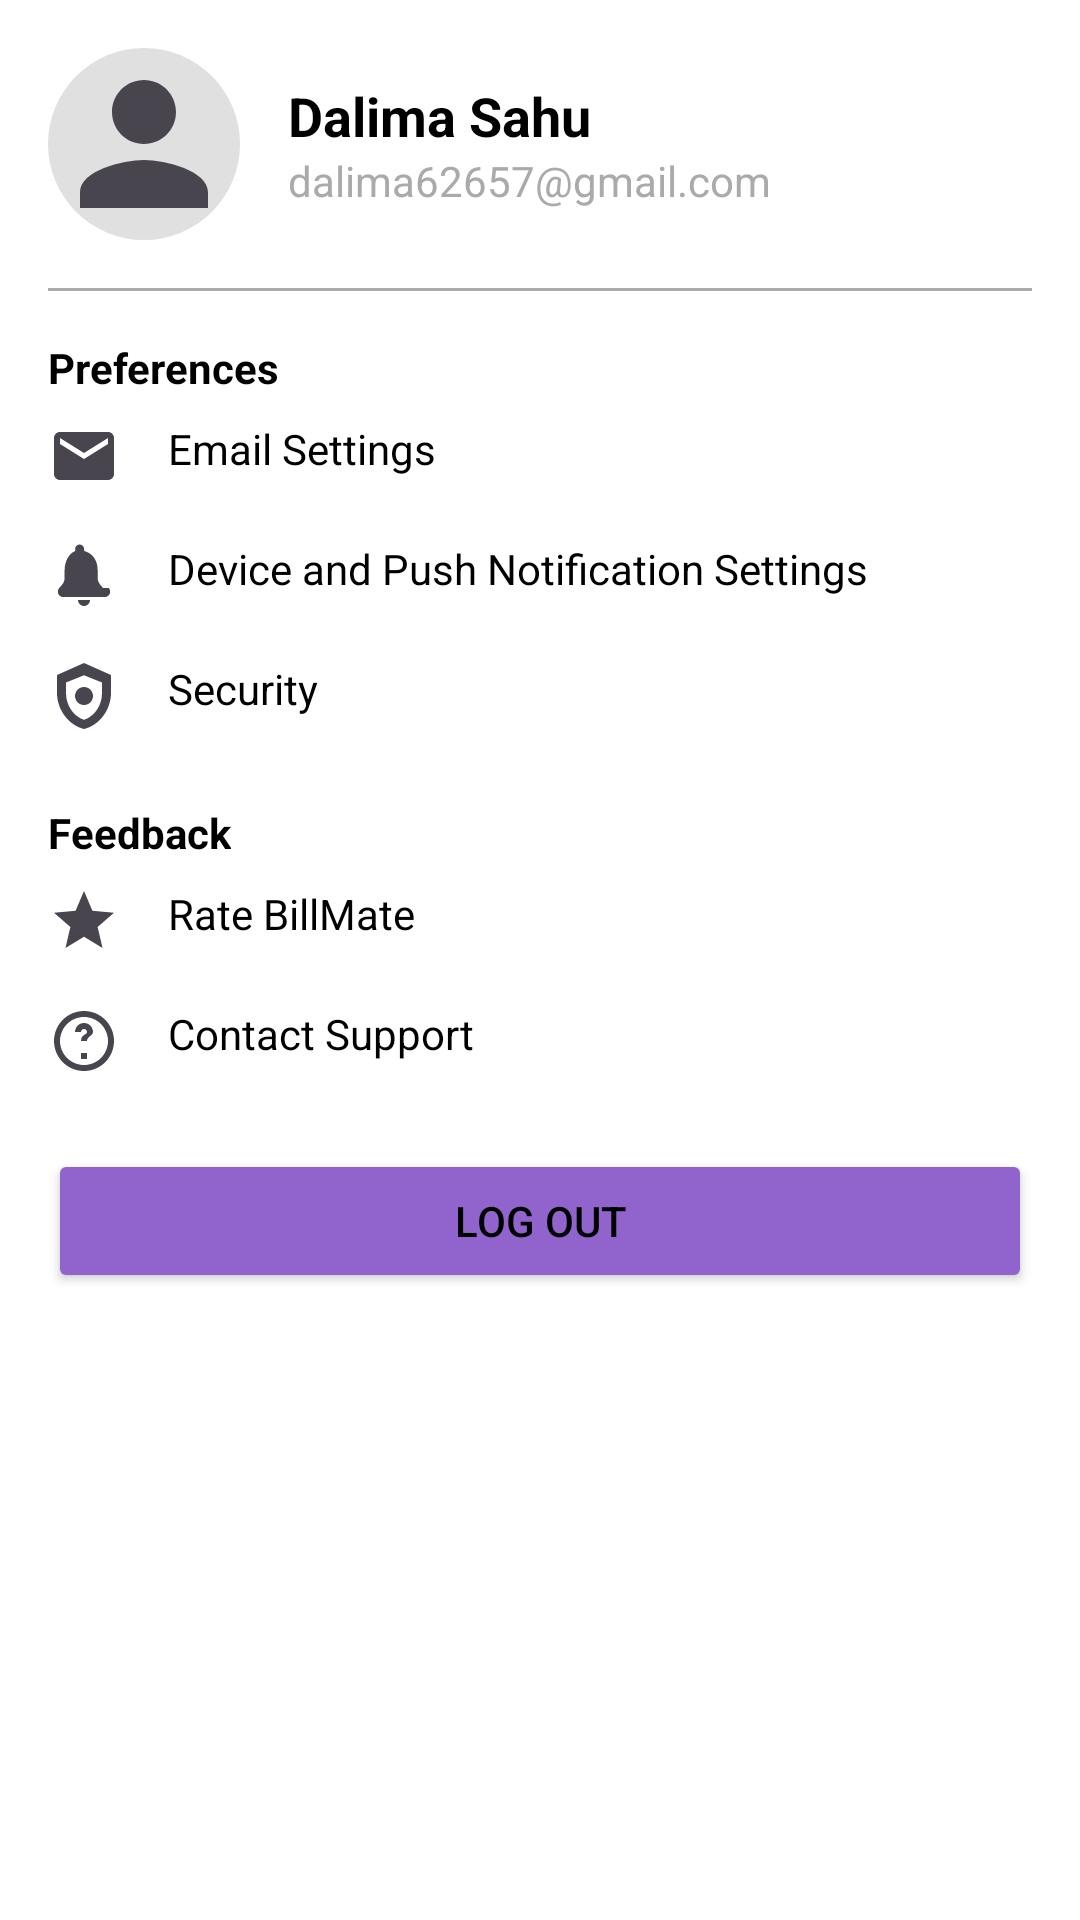

Where icons sit on this 1080×1920 app screen, as (x1, y1, x2, y2):
Help: (54, 1011, 114, 1071)
Profile Image: (48, 48, 240, 240)
Rate App: (54, 891, 114, 948)
